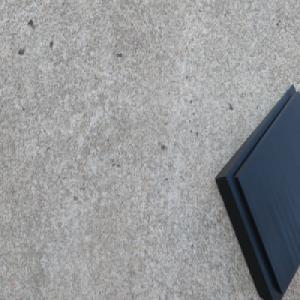PlasticPart: (213, 82, 300, 300)
